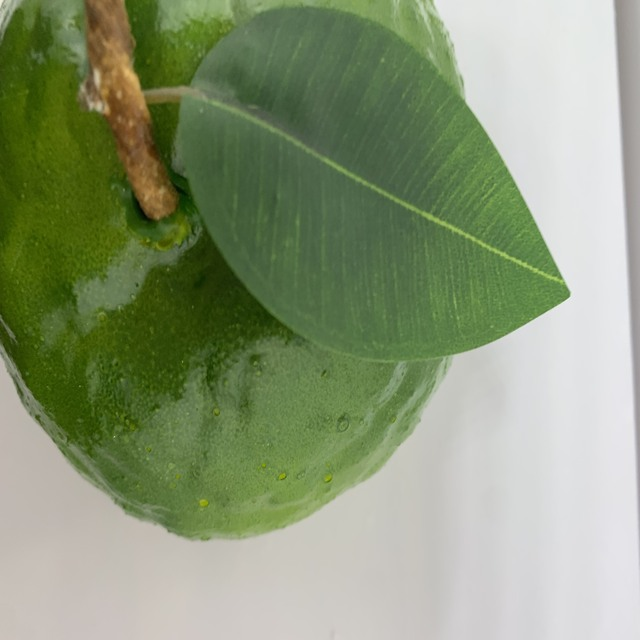Cam xanh: (0, 0, 487, 554)
